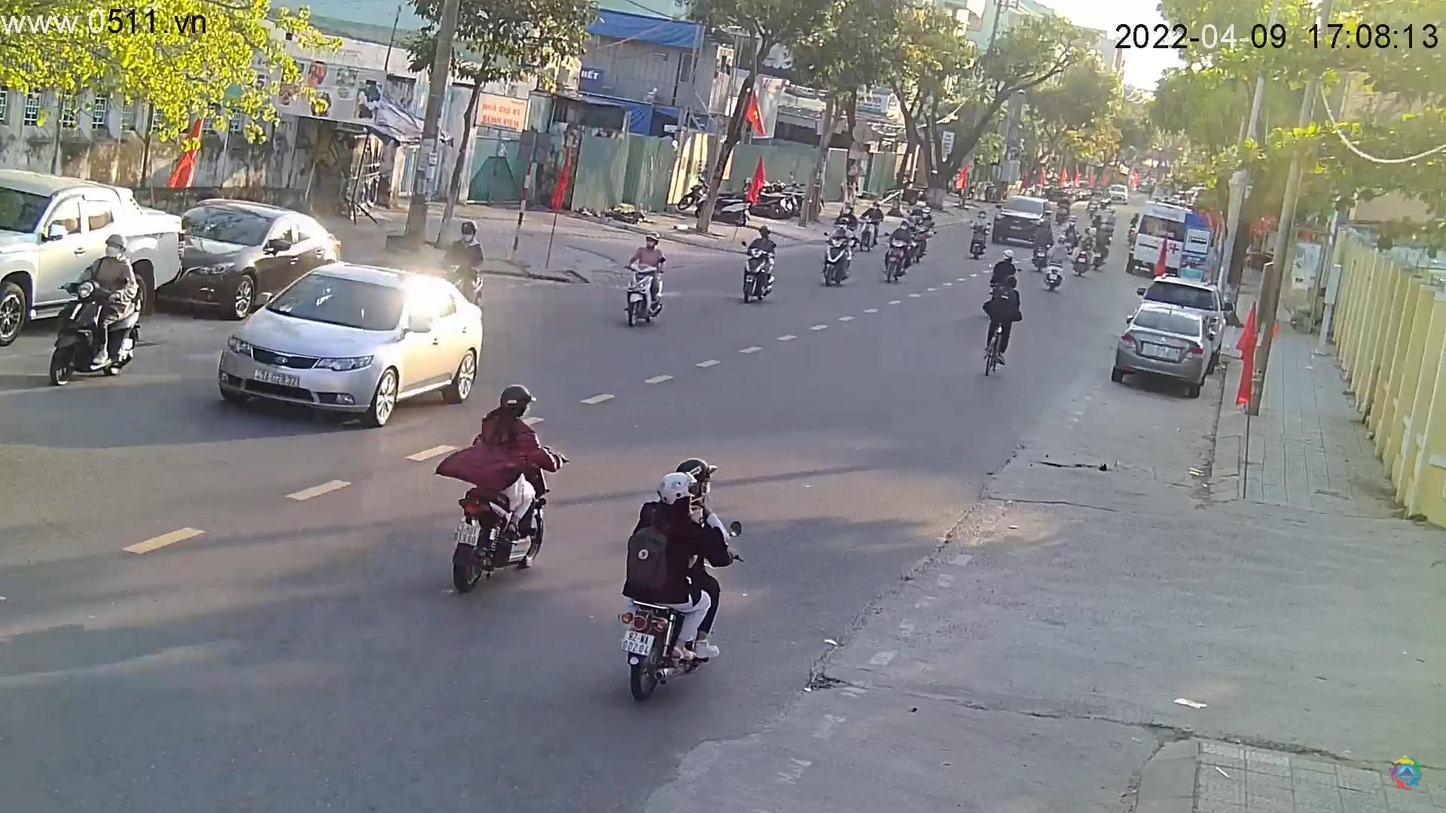car: (212, 261, 485, 429), (0, 165, 182, 353), (166, 201, 348, 320), (987, 187, 1055, 255)
motorbike: (618, 254, 673, 333), (818, 228, 858, 292), (878, 224, 914, 285), (743, 258, 779, 304)
